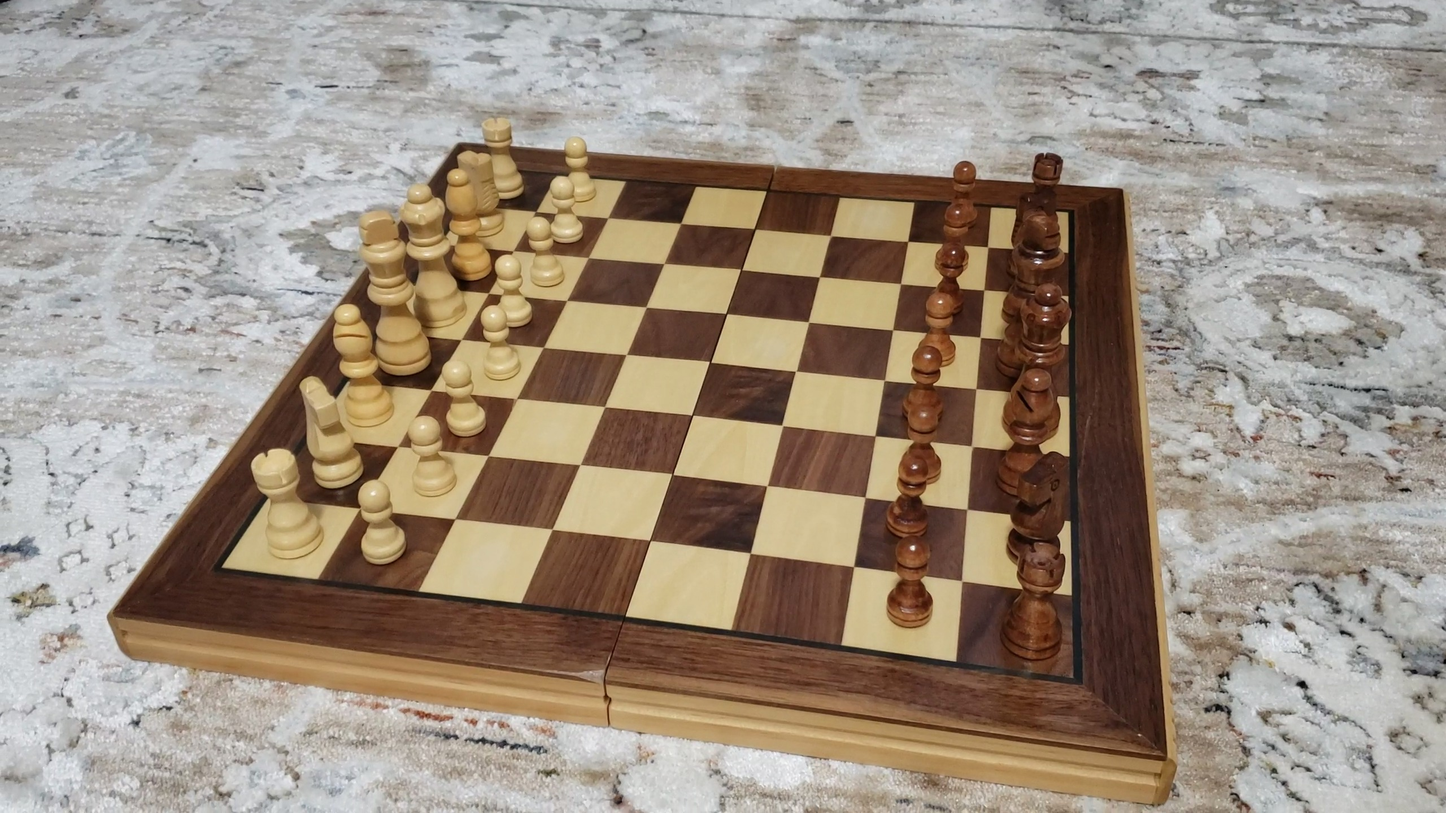black-bishop: (991, 368, 1057, 492)
black-king: (1008, 214, 1070, 287)
black-knight: (1007, 452, 1075, 550)
black-pawn: (884, 531, 937, 633), (885, 453, 937, 543), (943, 158, 978, 242), (902, 387, 943, 446), (922, 289, 961, 351), (934, 238, 970, 295), (910, 339, 948, 390), (903, 404, 939, 457)
black-queen: (1013, 279, 1077, 370)
black-rook: (999, 541, 1077, 669), (1024, 150, 1073, 196)
white-bishop: (319, 296, 400, 432), (443, 165, 490, 283)
white-king: (353, 207, 437, 374)
white-knight: (287, 373, 370, 489), (455, 148, 512, 237)
white-pawn: (347, 479, 415, 571), (436, 359, 492, 444), (409, 416, 456, 496), (555, 133, 603, 202), (544, 175, 588, 247), (479, 303, 520, 380), (494, 251, 533, 327), (526, 220, 564, 288)
white-queen: (400, 176, 463, 329)
white-rook: (241, 449, 331, 564), (474, 112, 531, 203)
